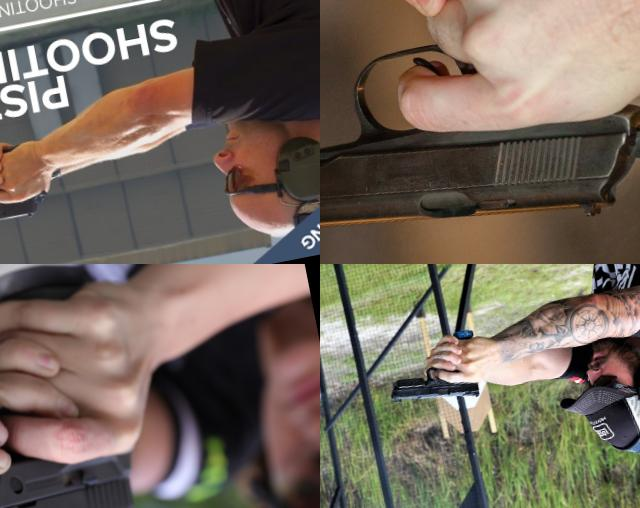handgun: (320, 0, 640, 264), (0, 264, 195, 508), (374, 323, 487, 414), (0, 135, 68, 235)
